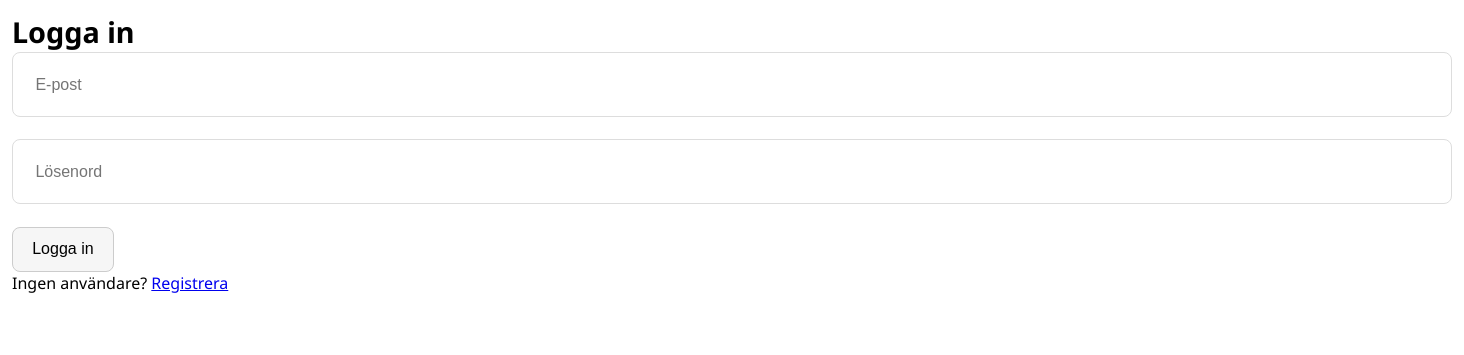
Test: Login: visar fel om token saknas
Type "a@b.com" into the field with placeholder "E-post".
click(732, 85); type("a@b.com")  # box [12,52,1452,117]
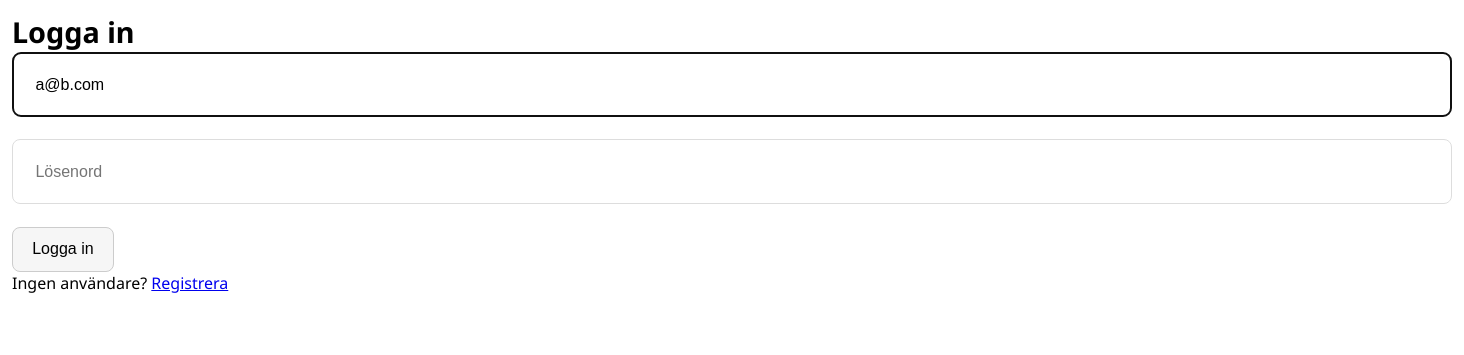
Type "secret" into the password field with placeholder "Lösenord".
click(732, 172); type("secret")  # box [12,140,1452,204]
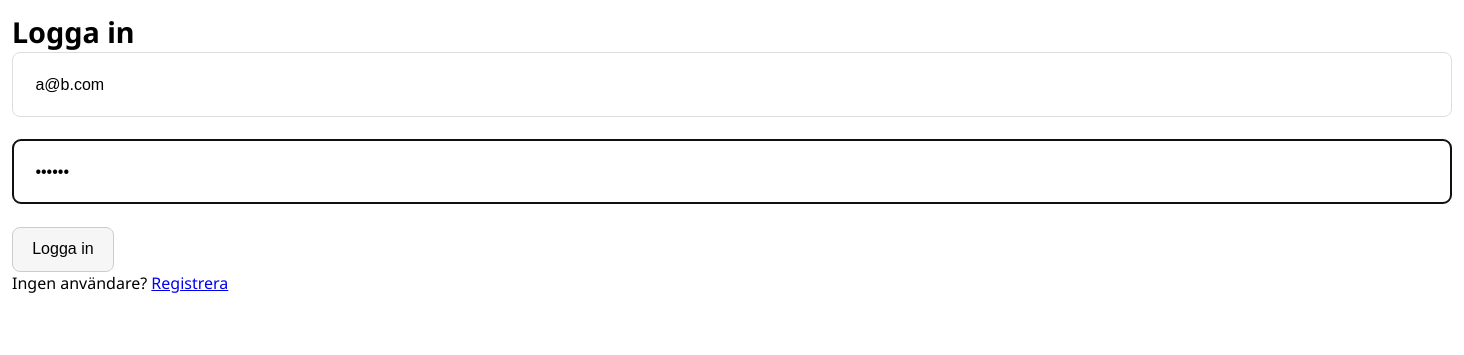
Click the button "Logga in".
click(63, 250)  # box [12,227,114,272]
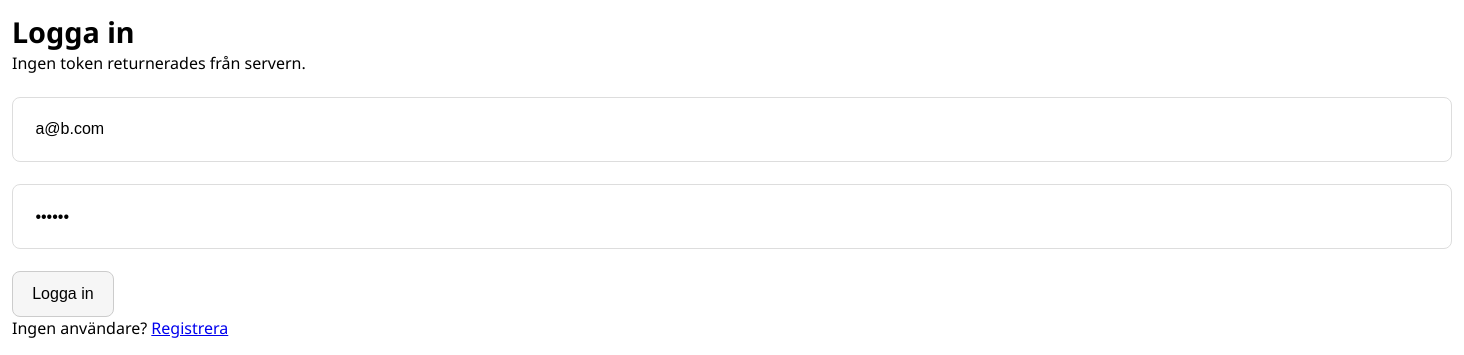
Expected: the text "Ingen token returnerades från servern." is shown, [12,52,306,74]
